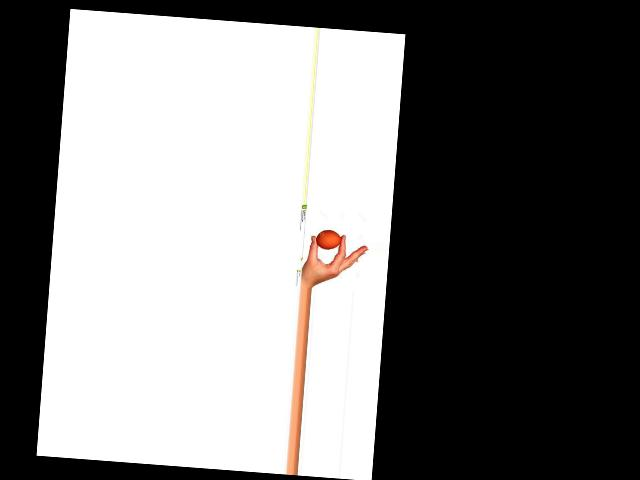egg: (315, 229, 341, 250)
